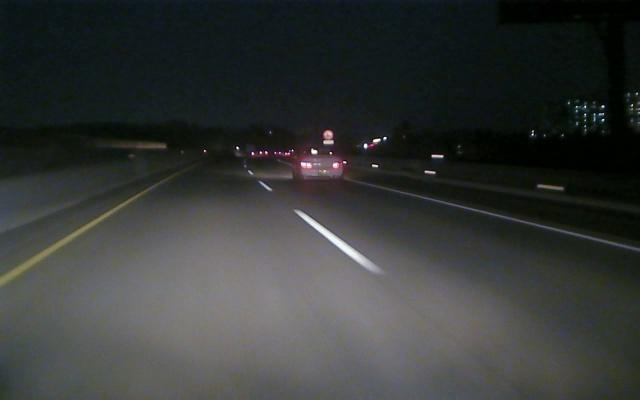lane: (360, 182, 638, 253), (3, 193, 142, 285), (260, 183, 387, 274)
